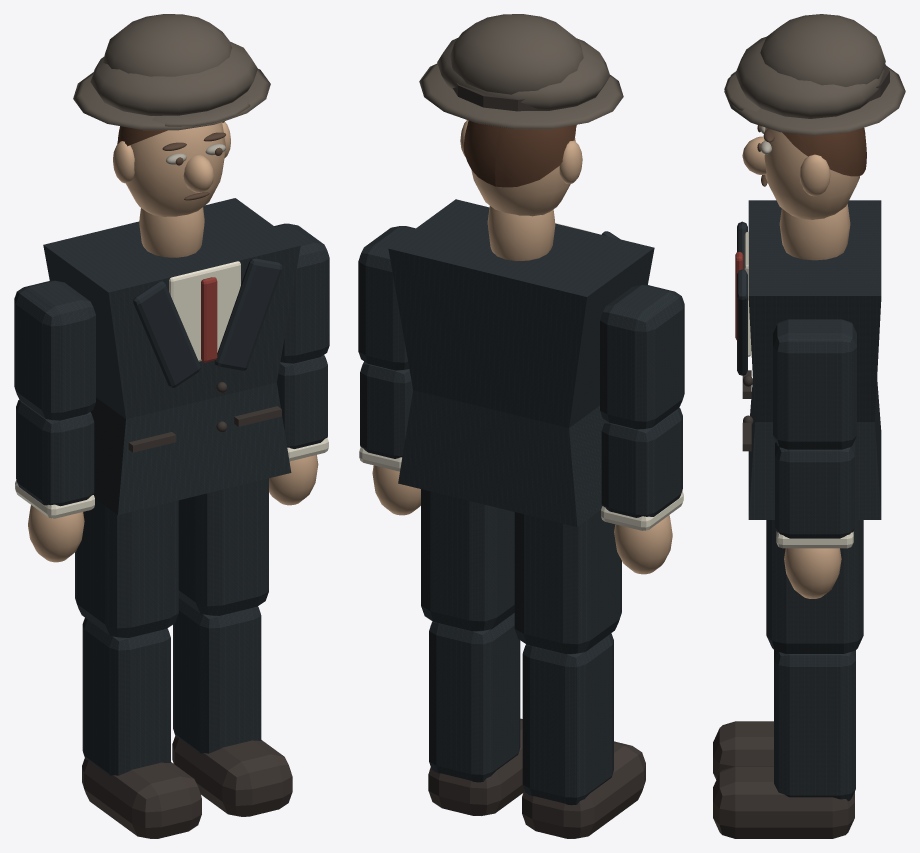
The model's file is person.glb.
The picture shows the model from 3 angles, left to right: view 1: azimuth 30°, elevation 25°; view 2: azimuth 150°, elevation 25°; view 3: azimuth 270°, elevation 25°; orthographic projection. The views are drawn at different scales.
Parts seen in each view (by area): view 1: jacket, trouser upper, trouser lower, trouser lower.001, trouser upper.001, jacket upper sleeve, neck, jacket forearm, shoe, cloth cap crown, shoe.001, fedora crown (+10 smaller); view 2: jacket, trouser lower, trouser lower.001, trouser upper, trouser upper.001, jacket upper sleeve, fedora crown, jacket forearm, neck, jacket upper sleeve.001, shoe, barbered receding (+9 smaller); view 3: jacket, trouser lower.001, jacket upper sleeve.001, neck, trouser upper.001, shoe.001, jacket forearm.001, fedora crown, cloth cap crown, fedora brim, shoe, hand.001 (+5 smaller).
Part boxes in pixels (box(x1,y1,x2,y2)): jacket: box(43, 198, 300, 514); trouser upper: box(75, 498, 178, 637); trouser lower: box(82, 618, 170, 775); trouser lower.001: box(173, 598, 261, 753); trouser upper.001: box(178, 478, 268, 615); jacket upper sleeve: box(14, 280, 95, 420); neck: box(113, 122, 230, 257); jacket forearm: box(16, 399, 94, 506); shoe: box(82, 758, 201, 838); cloth cap crown: box(90, 41, 257, 115); shoe.001: box(172, 736, 292, 816); fedora crown: box(103, 14, 231, 76); jacket: box(388, 199, 654, 527); trouser lower: box(522, 633, 613, 805); trouser lower.001: box(429, 613, 520, 782); trouser upper: box(514, 510, 621, 654); trouser upper.001: box(421, 489, 514, 631); jacket upper sleeve: box(600, 285, 684, 429); fedora crown: box(450, 14, 583, 94); jacket forearm: box(601, 408, 682, 517); neck: box(460, 120, 582, 260); jacket upper sleeve.001: box(358, 226, 415, 370); shoe: box(522, 741, 645, 838); barbered receding: box(464, 120, 572, 187); jacket: box(737, 200, 881, 519); trouser lower.001: box(774, 650, 855, 801); jacket upper sleeve.001: box(773, 319, 856, 449); neck: box(742, 127, 859, 260); trouser upper.001: box(766, 520, 863, 653); shoe.001: box(713, 766, 854, 838); jacket forearm.001: box(775, 442, 854, 538); fedora crown: box(760, 14, 885, 86); cloth cap crown: box(735, 36, 884, 118); fedora brim: box(724, 66, 905, 135); shoe: box(713, 721, 773, 779); hand.001: box(784, 548, 841, 598).
Bounding box in the file's own units: 0.76 × 1.95 × 0.435.
9 materials, 1 textured.
